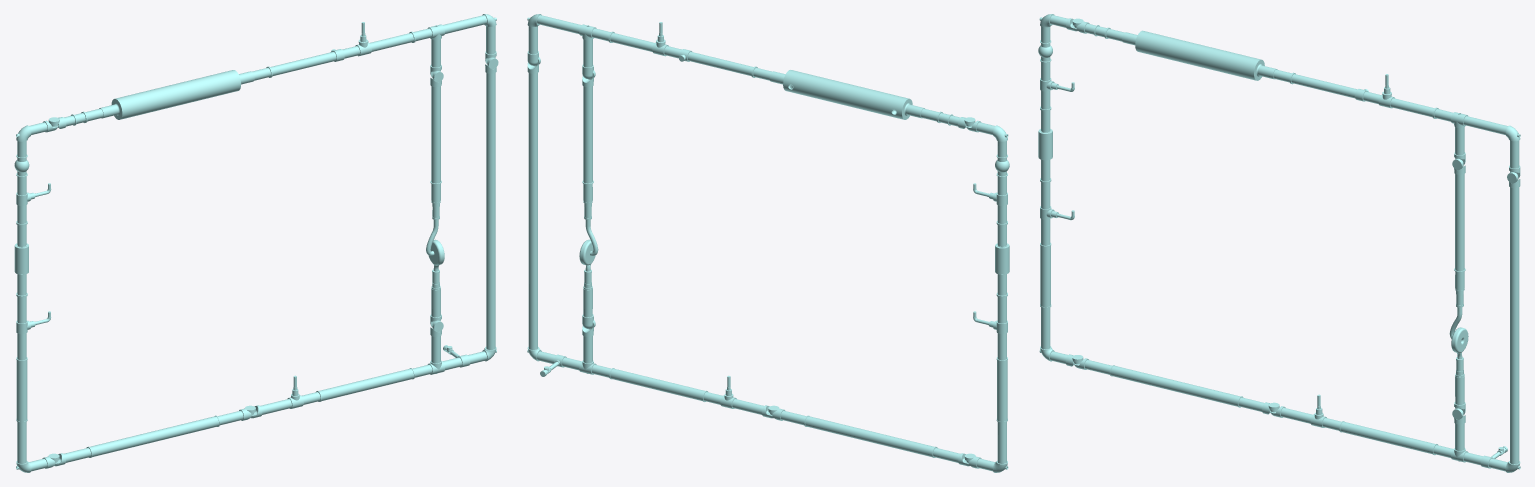
File: STAND_TUBE.fbx
The picture shows the model from 3 angles, left to right: view 1: azimuth 30°, elevation 25°; view 2: azimuth 150°, elevation 25°; view 3: azimuth 330°, elevation 25°; orthographic projection.
Visible parts, largest first — view 1: Stand_tube; view 2: Stand_tube; view 3: Stand_tube.
Part boxes in pixels (<box>): Stand_tube: <box>14,14,498,472</box>; Stand_tube: <box>527,14,1009,472</box>; Stand_tube: <box>1038,14,1520,472</box>.
Size of the model in its own units: 2791 by 244 by 2044.
